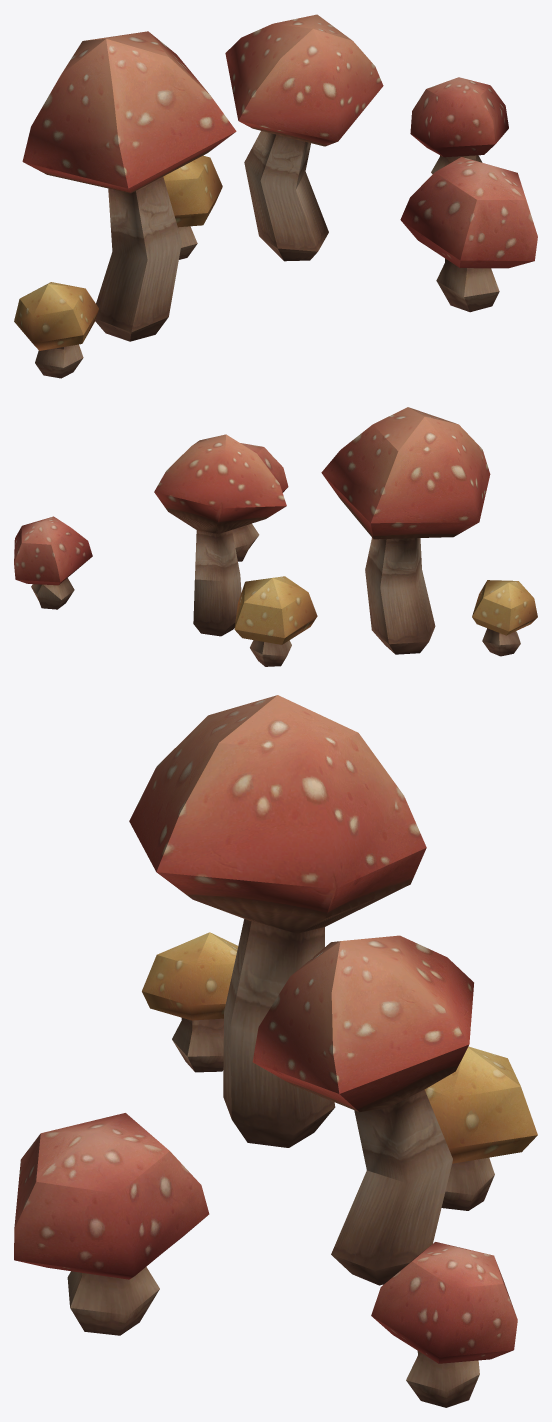
3 views of the same model, one above another, from view 1: azimuth 30°, elevation 25°; view 2: azimuth 150°, elevation 25°; view 3: azimuth 270°, elevation 25° (orthographic). The views are drawn at different scales.
Visible parts, largest first — view 1: UE704_1; view 2: UE704_1; view 3: UE704_1.
Part boxes in pixels (x1,y1,x2,y2): UE704_1: (14,14,537,378); UE704_1: (14,407,537,666); UE704_1: (14,695,537,1407).
Size of the model in its own units: 3.07 by 1.54 by 1.73.
